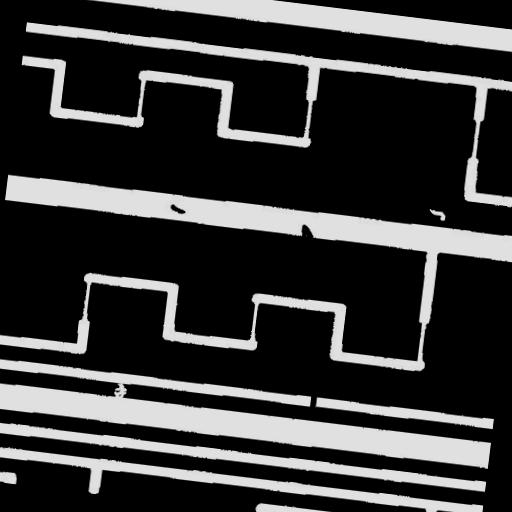copper: (162, 196, 194, 222)
open: (105, 374, 135, 407)
pin-hole: (420, 200, 454, 229)
short: (301, 383, 326, 417)
spur: (292, 216, 322, 248)
